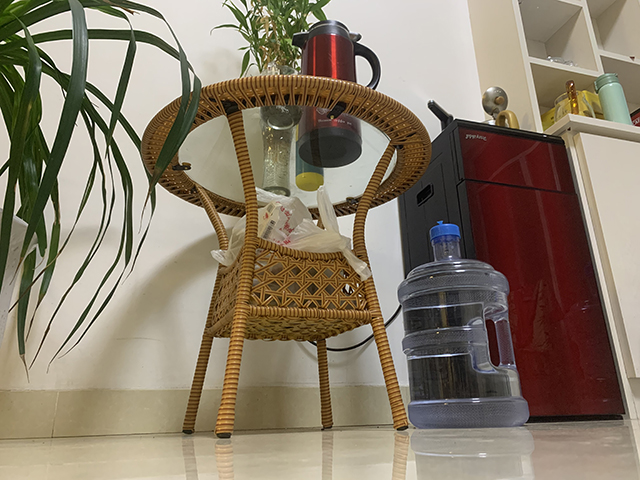cabinet: (396, 117, 627, 423)
table: (138, 71, 433, 440)
